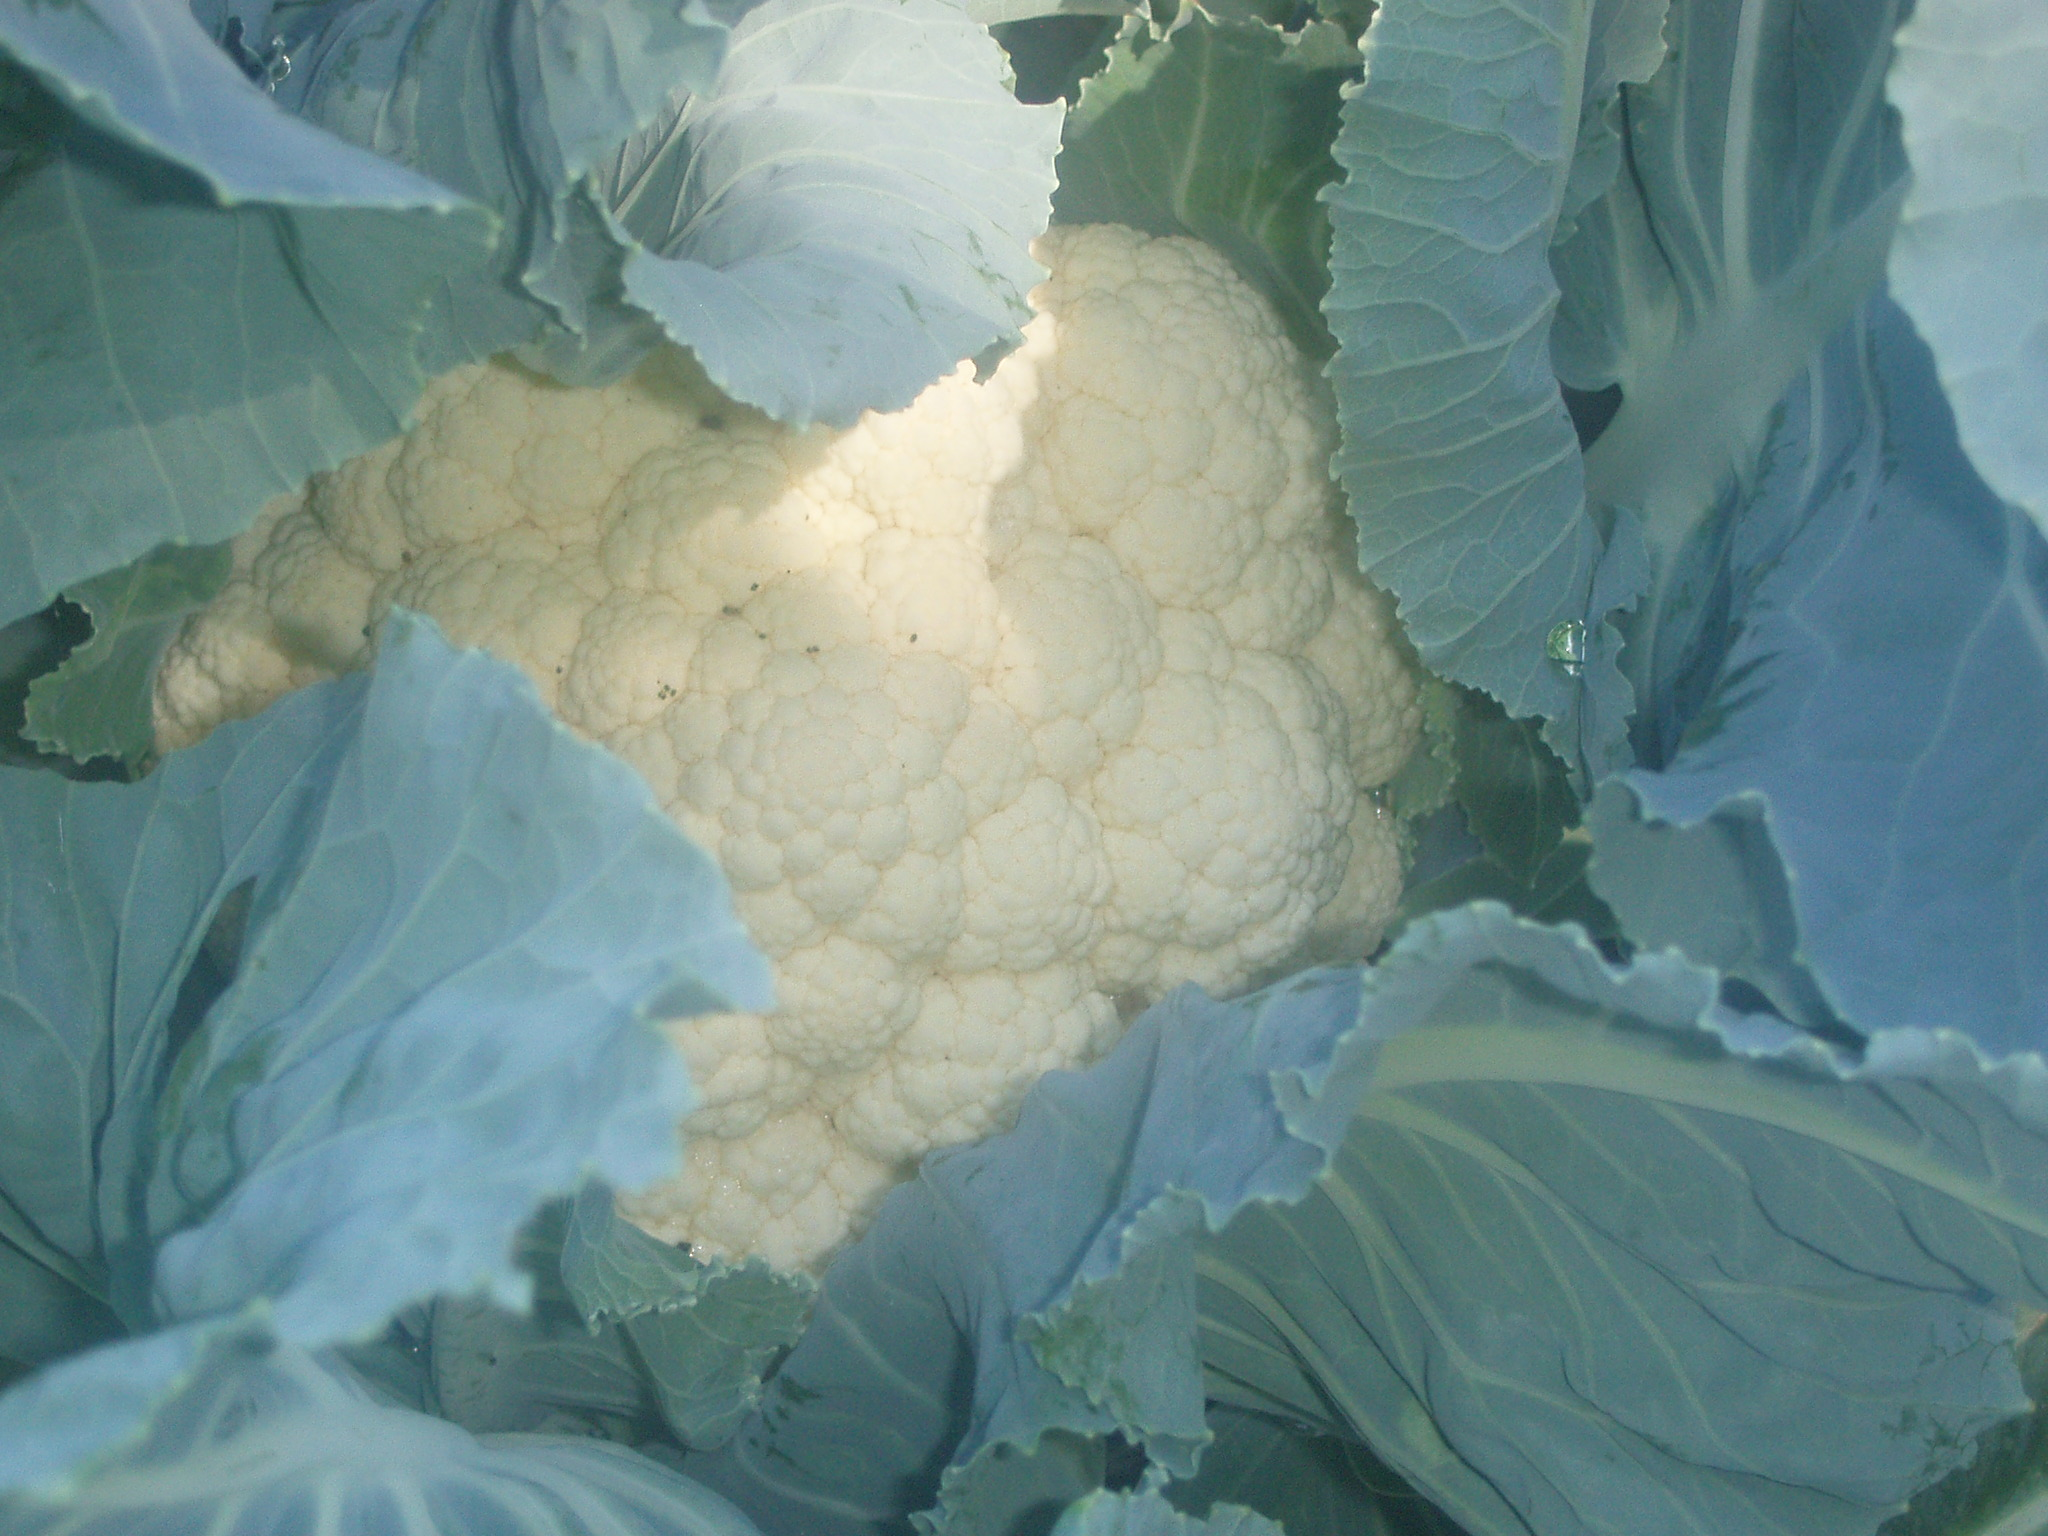cauliflower: (148, 226, 1443, 1267)
